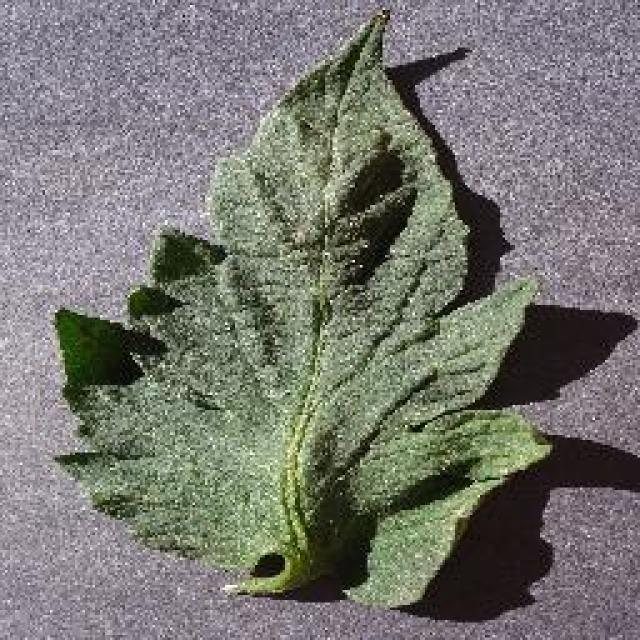Tomato_Healthy: (34, 31, 580, 589)
